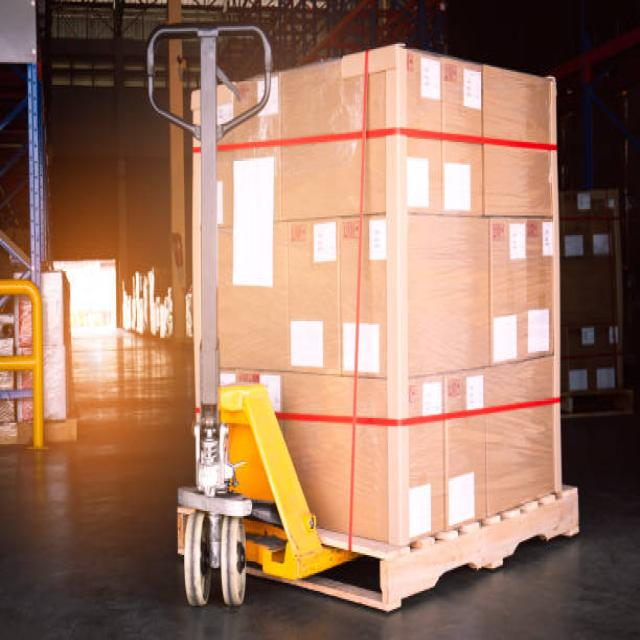Wooden-Pallets: (298, 488, 578, 614)
